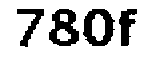0: (82, 6, 117, 49)
7: (15, 5, 47, 49)
8: (49, 4, 81, 51)
f: (117, 7, 142, 49)
